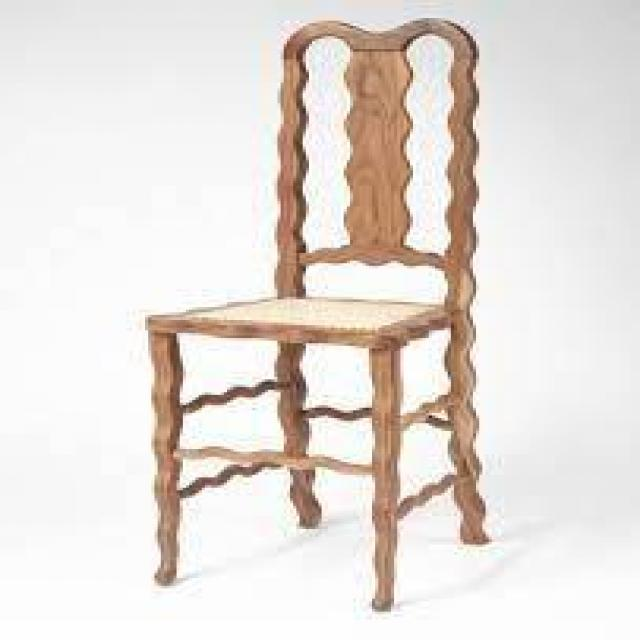chair: (93, 15, 538, 617)
